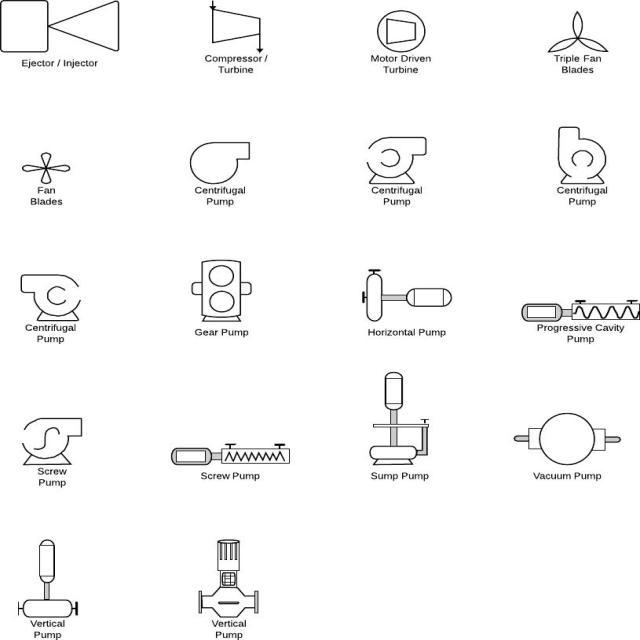Centrifugal Pump: (0, 252, 138, 322), (515, 116, 617, 187), (164, 132, 292, 184), (349, 120, 442, 186)
Compressor Turbine: (178, 0, 307, 57)
Ejector: (0, 0, 144, 59)
Fan Blades: (14, 144, 86, 188)
Gear Pump: (169, 244, 286, 324)
Horizontal Pump: (333, 262, 460, 322)
Motor Driven Turbine: (359, 4, 450, 54)
Progressive Cavity Pump: (506, 288, 640, 321)
Screw Pump: (0, 396, 119, 471), (144, 436, 306, 469)
Sump Pump: (331, 348, 454, 465)
Triple Fan Blade: (517, 0, 632, 57)
Vaccum Pump: (504, 396, 632, 464)
Vertical Pump: (157, 518, 292, 618), (2, 526, 128, 620)
